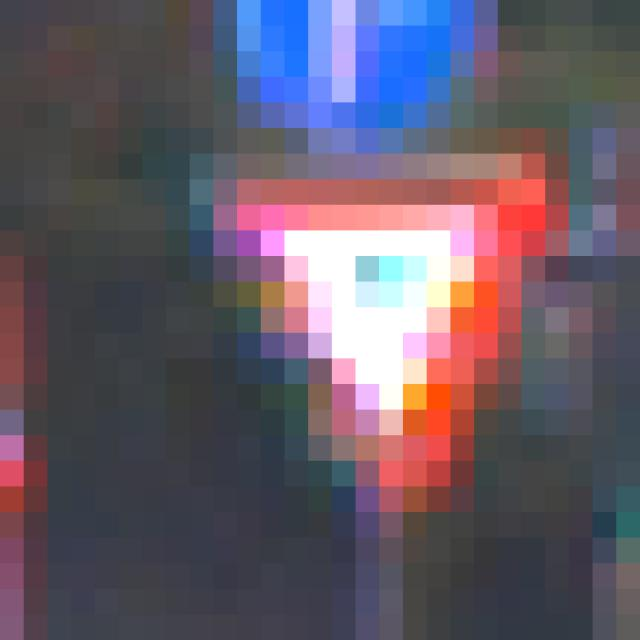Give Way: (143, 129, 523, 513)
